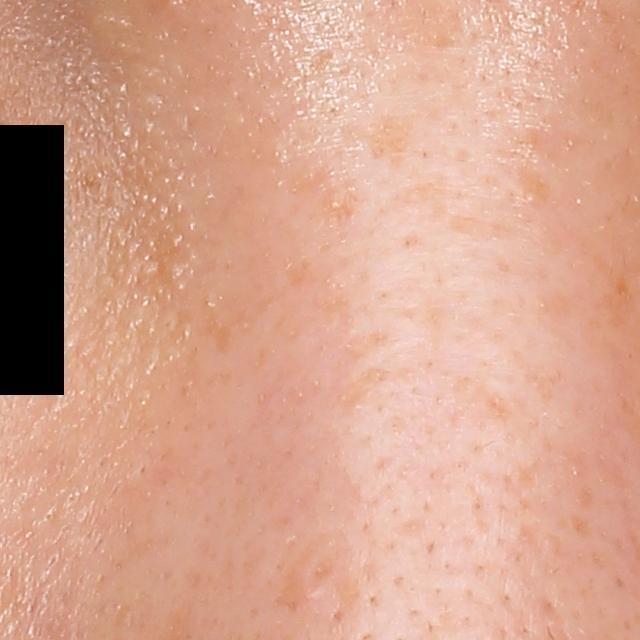melasma: (340, 113, 417, 175), (499, 159, 556, 204)
